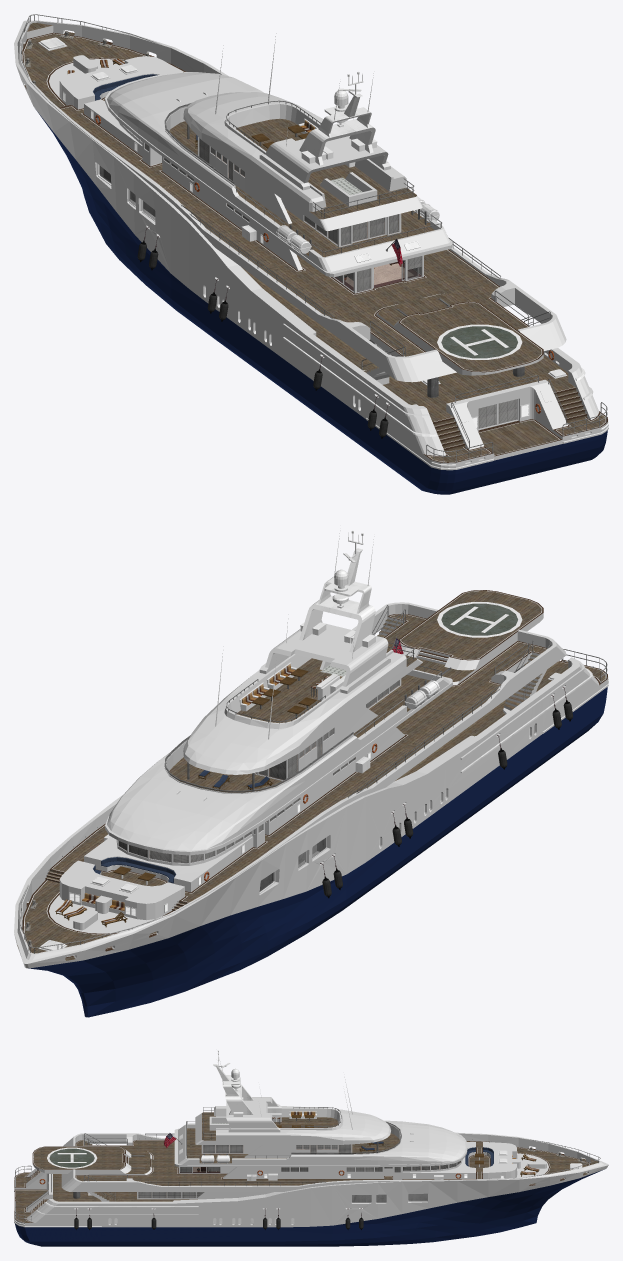
The model's file is yacht.glb.
The picture shows the model from 3 angles, top to bottom: view 1: azimuth 30°, elevation 25°; view 2: azimuth 150°, elevation 25°; view 3: azimuth 270°, elevation 25°; orthographic projection. The views are drawn at different scales.
Size of the model in its own units: 0.4383 by 0.6301 by 1.98.
43 materials, 42 textured.
